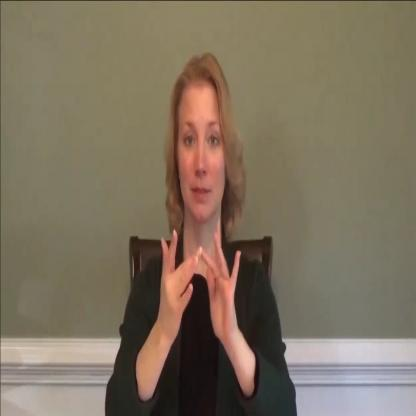Internet: (150, 216, 244, 344)
